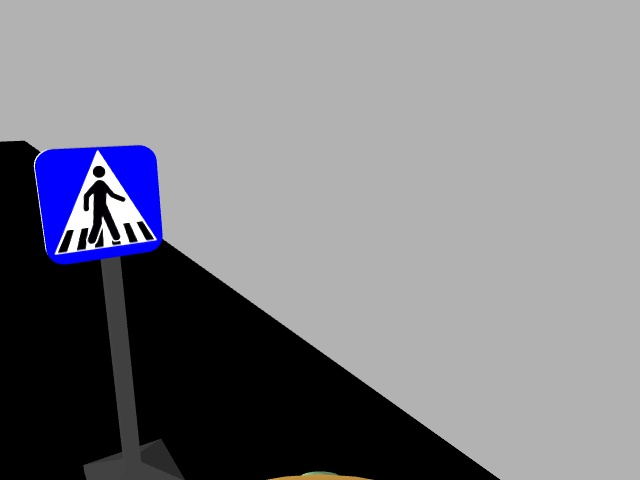Crosswalk: (27, 146, 169, 264)
